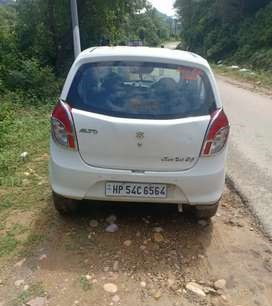HP54C6564: (105, 183, 167, 197)
